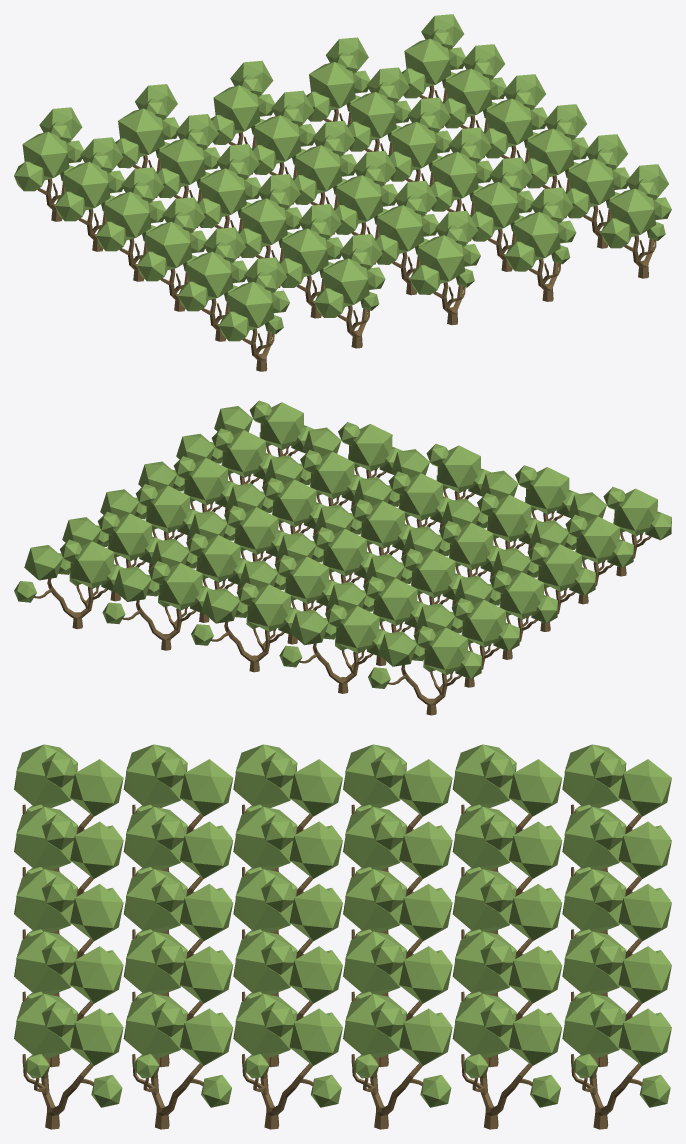
Rendered from demoscene.glb.
The picture shows the model from 3 angles, top to bottom: view 1: azimuth 30°, elevation 25°; view 2: azimuth 150°, elevation 25°; view 3: azimuth 270°, elevation 25°; orthographic projection. The views are drawn at different scales.
Visible parts, largest first — view 1: Tree_lp_11.001; view 2: Tree_lp_11.001; view 3: Tree_lp_11.001.
Part boxes in pixels (left/top/right/bottom): Tree_lp_11.001: left=14, top=14, right=671, bottom=371; Tree_lp_11.001: left=14, top=400, right=671, bottom=715; Tree_lp_11.001: left=14, top=744, right=671, bottom=1129.
Size of what is drawn, in the model's own units: 140 by 26.54 by 125.
